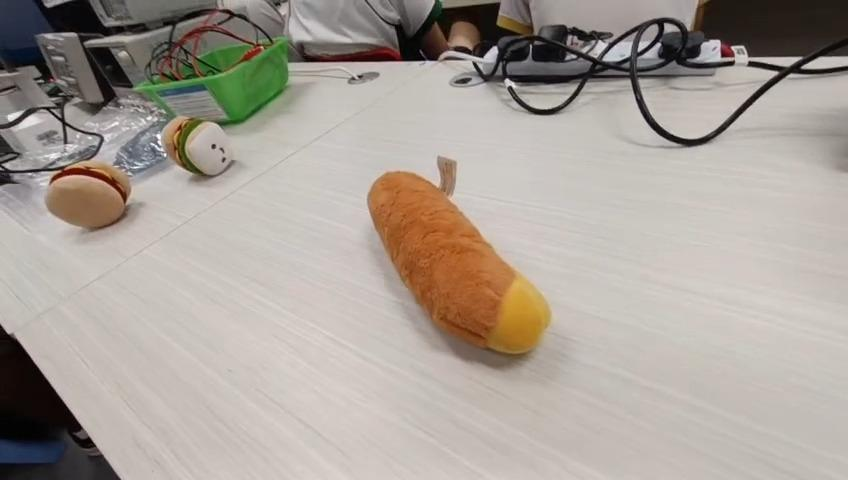hotdog: (366, 168, 551, 355)
